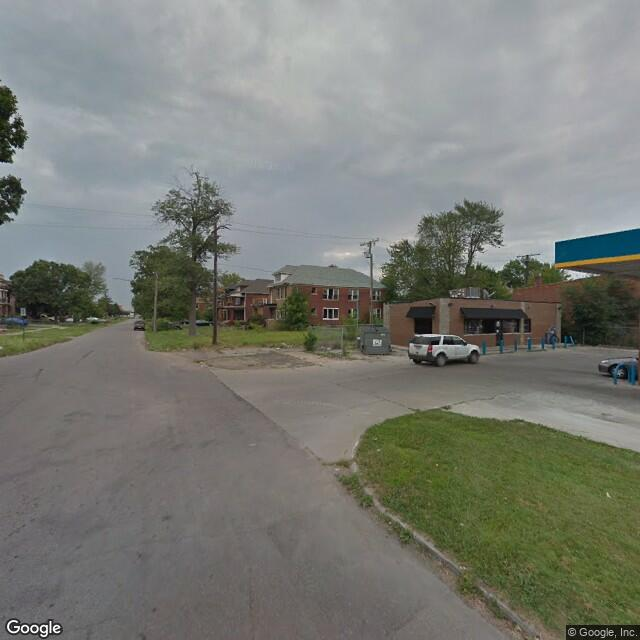litter: (602, 492, 613, 500)
